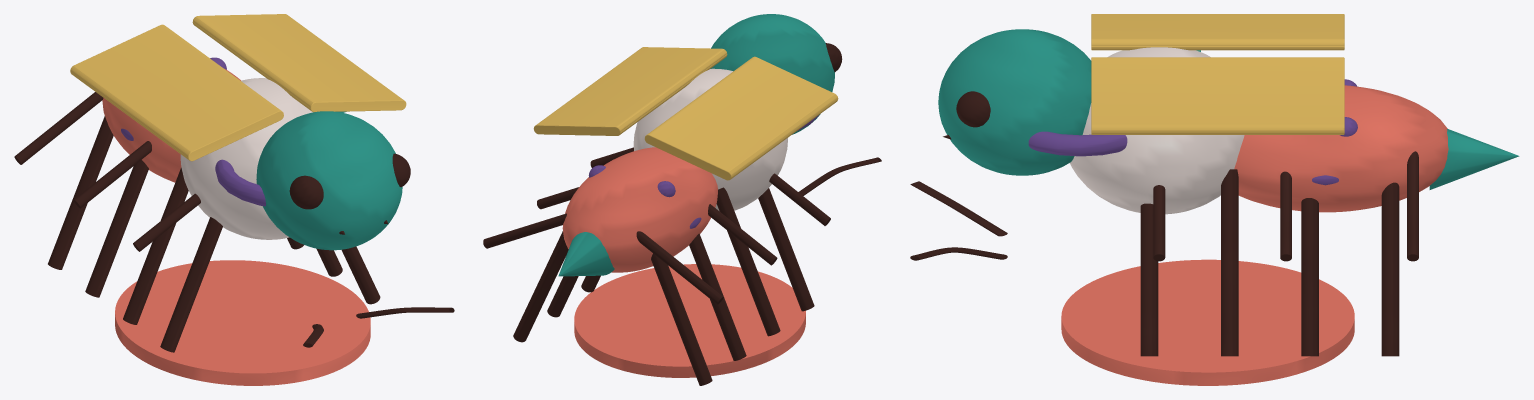
Rendered from 0021_昆虫图鉴_屁步甲.glb.
3 renders of one model, left to right at view 1: azimuth 30°, elevation 25°; view 2: azimuth 150°, elevation 25°; view 3: azimuth 270°, elevation 25°, orthographic. The views are drawn at different scales.
Visible parts, largest first — view 1: card_0021; view 2: card_0021; view 3: card_0021.
Boxes of the visible parts, box(x1,y1,x2,y2) form: card_0021: box(14, 14, 454, 385); card_0021: box(483, 14, 881, 385); card_0021: box(910, 14, 1519, 385).
Bounding box in the file's own units: 1.01 × 1 × 1.89.
